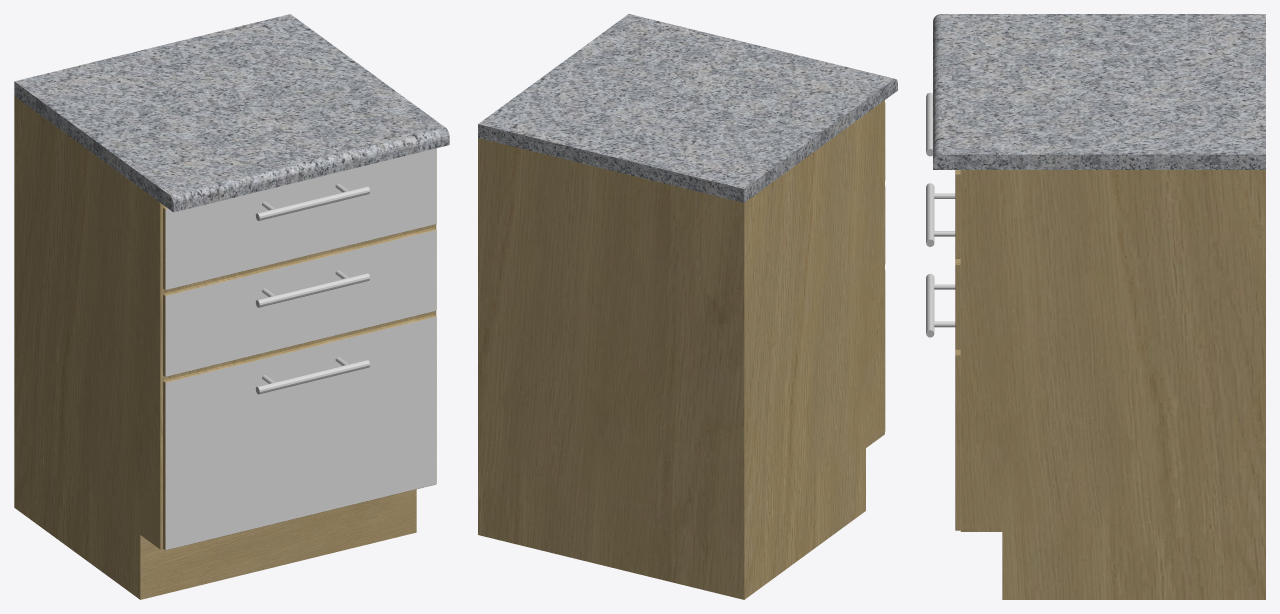
The model's file is b0-drawerscabinet.glb.
3 views of the same model, side by side, from view 1: azimuth 30°, elevation 25°; view 2: azimuth 150°, elevation 25°; view 3: azimuth 270°, elevation 25° (orthographic). The views are drawn at different scales.
Visible parts, largest first — view 1: GC_25H/25H/50H.001_Cube.327; view 2: GC_25H/25H/50H.001_Cube.327; view 3: GC_25H/25H/50H.001_Cube.327.
Boxes of the visible parts, bbox=[...] form: GC_25H/25H/50H.001_Cube.327: bbox=[14, 14, 449, 599]; GC_25H/25H/50H.001_Cube.327: bbox=[478, 14, 897, 599]; GC_25H/25H/50H.001_Cube.327: bbox=[926, 14, 1265, 599].
Size of the model in its own units: 0.6 by 0.885 by 0.612.
Materials: 4 (2 with a texture image).
